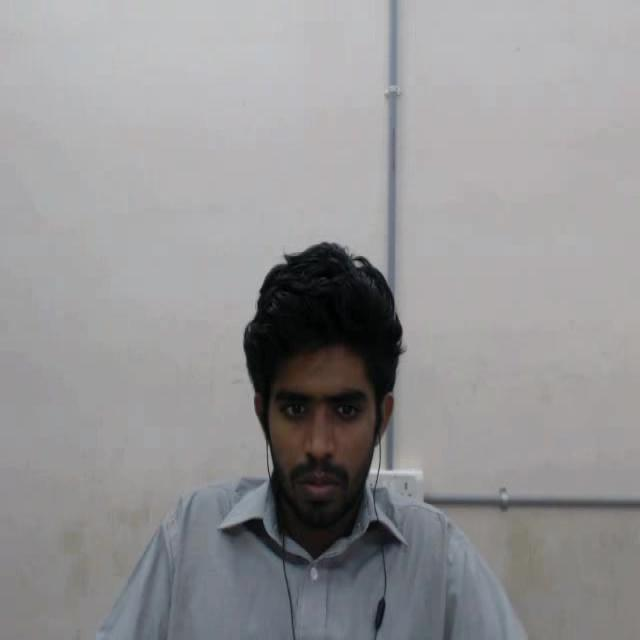Engaged: (234, 201, 417, 563)
